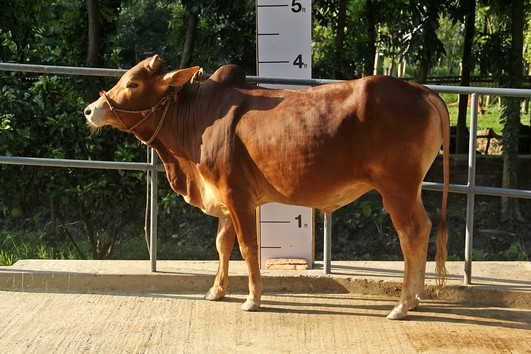cow: (80, 46, 456, 322)
